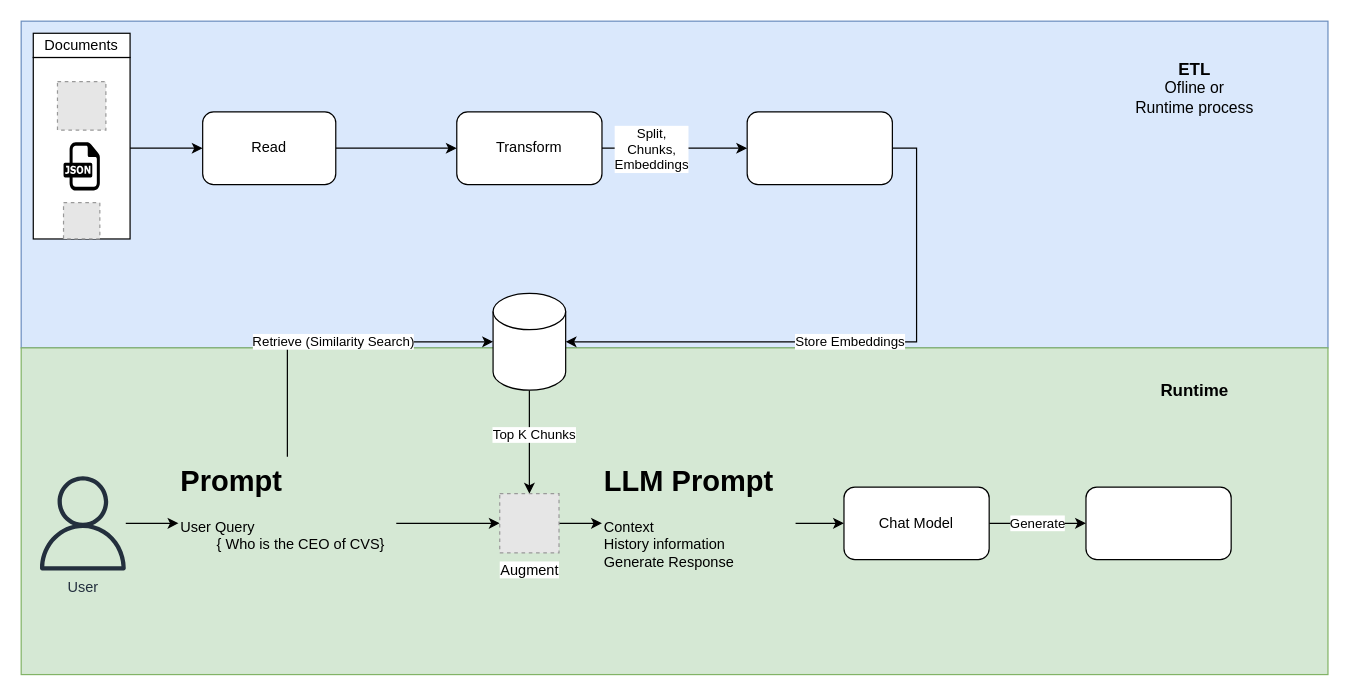
This 1349x696 diagram has some shape labels left out. Grey dashed boxes stand in for pictures. Here are the shapes that lost their labels. From the top down, the centre of each, then its label:
At point 819,148: "Write".
At point 529,341: "Vector DB".
At point 1158,523: "Chat Response".
